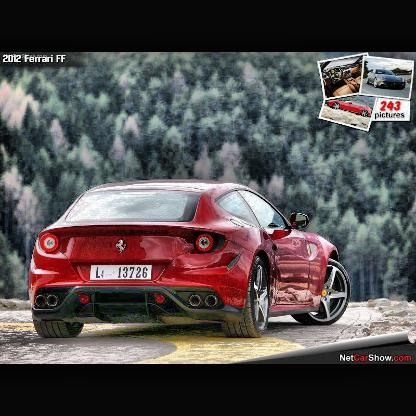Ferrari FF Coupe 2012: (29, 181, 353, 340)
